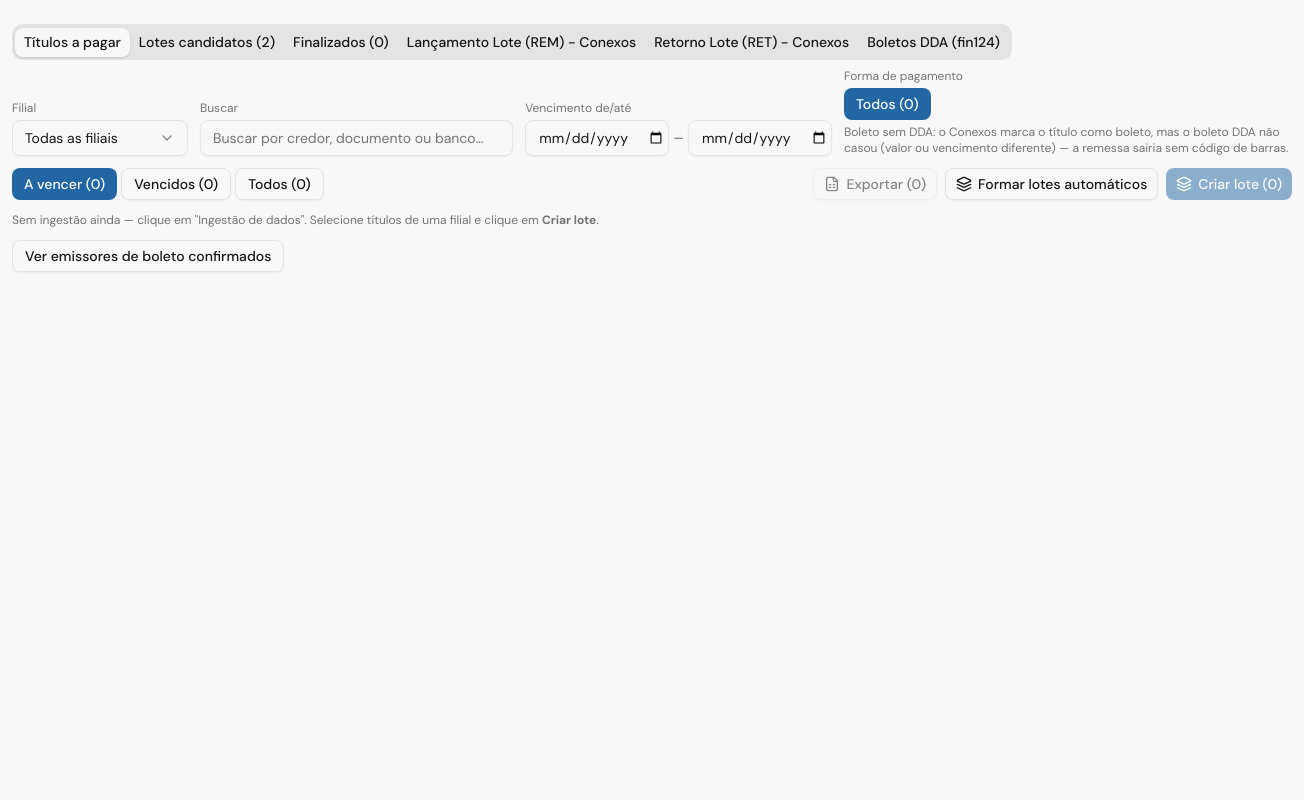
Test: SispagPage — prontidão dos lotes em rascunho (ADR-0076) › pendências primeiro, filtro por prontidão e a faixa de finalizar os prontos
This screenshot has width=1304, height=800.
Click the tab "Lotes candidatos (2)" at (207, 42), box [130,28,284,56]
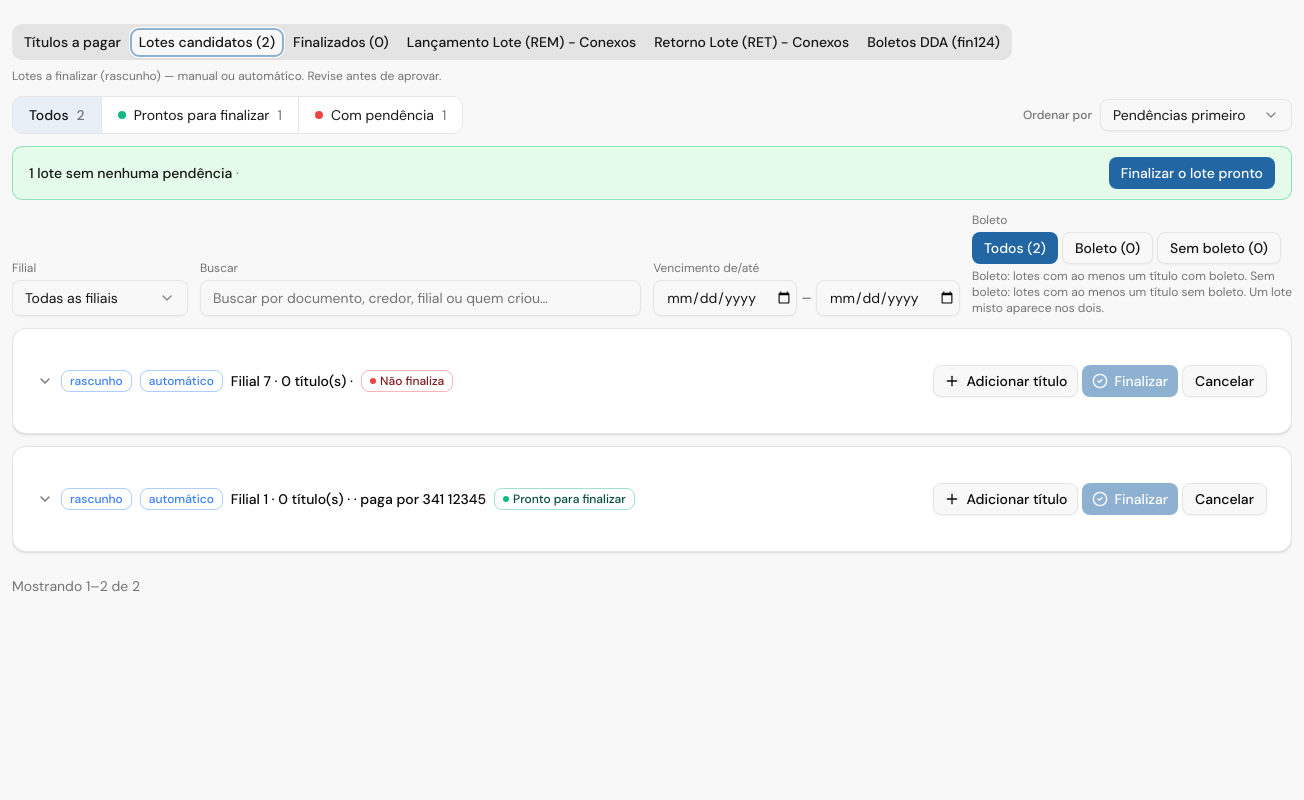
Now the button "Prontos para finalizar 1" is shown
Now the button "Com pendência 1" is shown, box [298,97,462,133]
Now the button "Finalizar o lote pronto" is shown, box [1109,157,1275,189]
Click the button "Prontos para finalizar 1" at (199, 115), box [101,97,298,133]
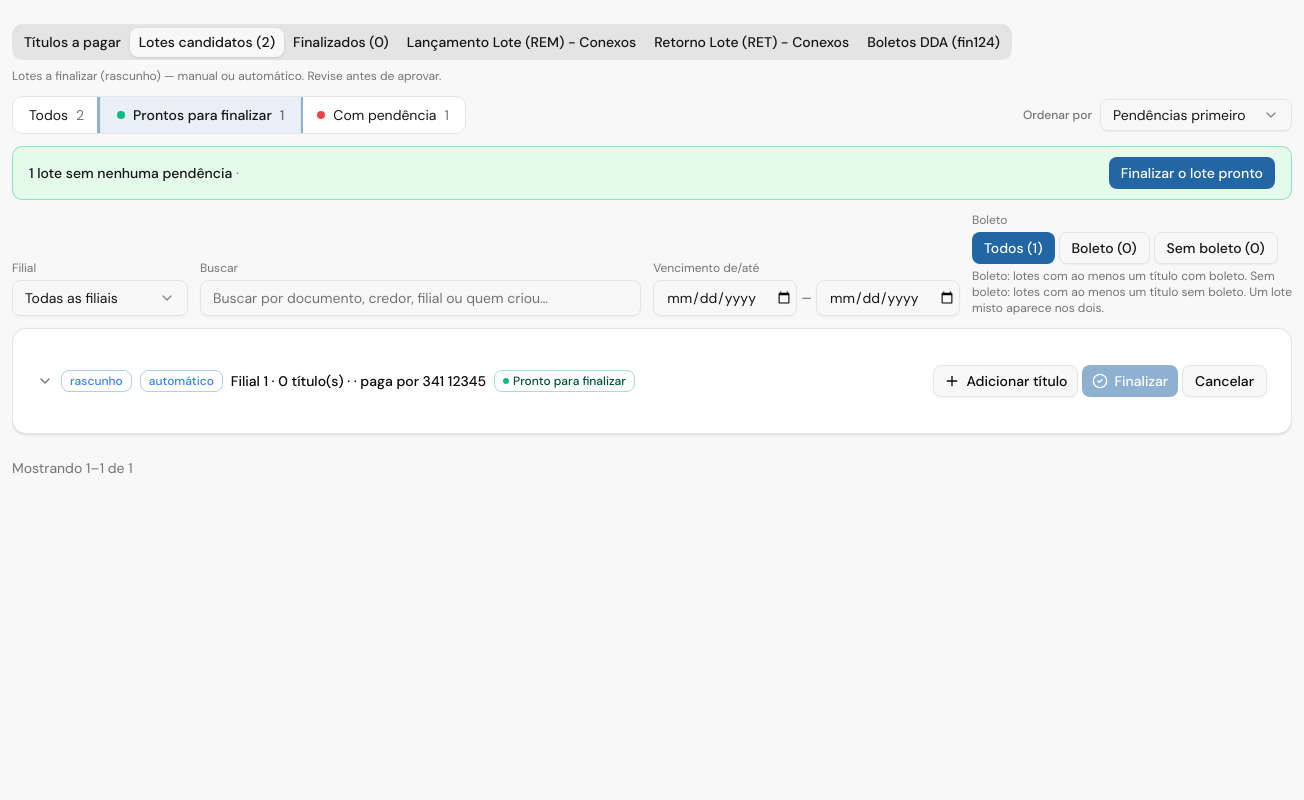
Now the text "Pronto para finalizar" is shown, box [494,370,635,392]
Now the button "Não finaliza" is gone
